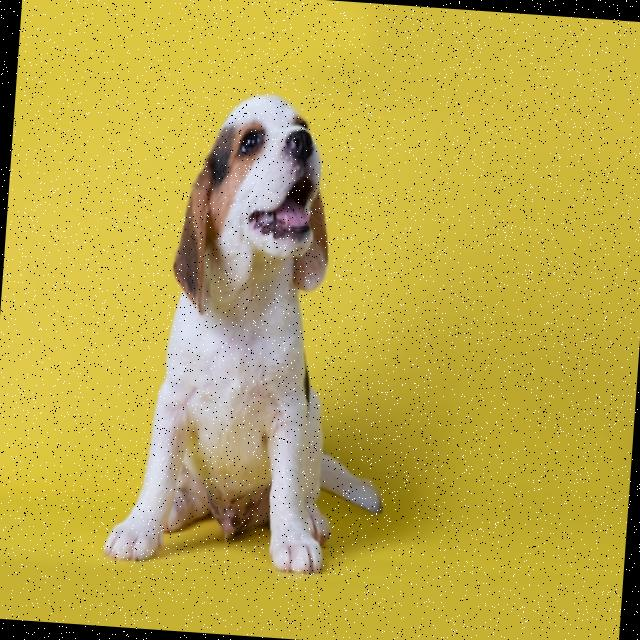Dog: (103, 82, 410, 580)
